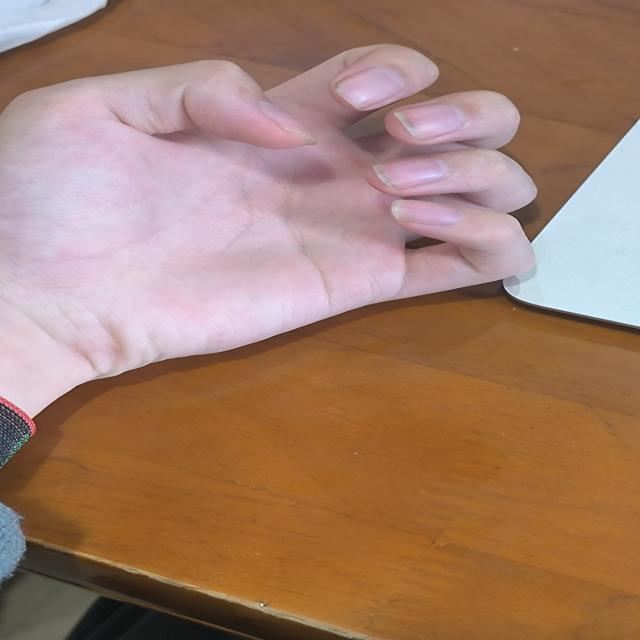Nail: (335, 68, 406, 109), (374, 157, 450, 190), (395, 104, 466, 139), (258, 101, 313, 139), (390, 199, 464, 226)
